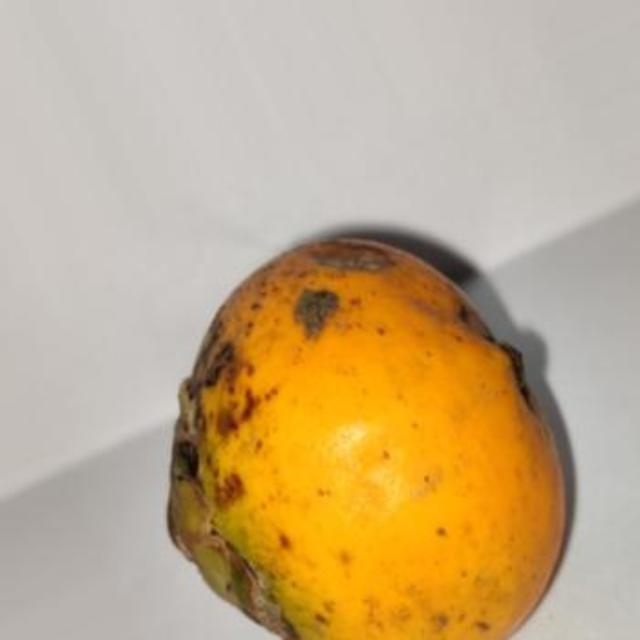good: (168, 238, 569, 638)
